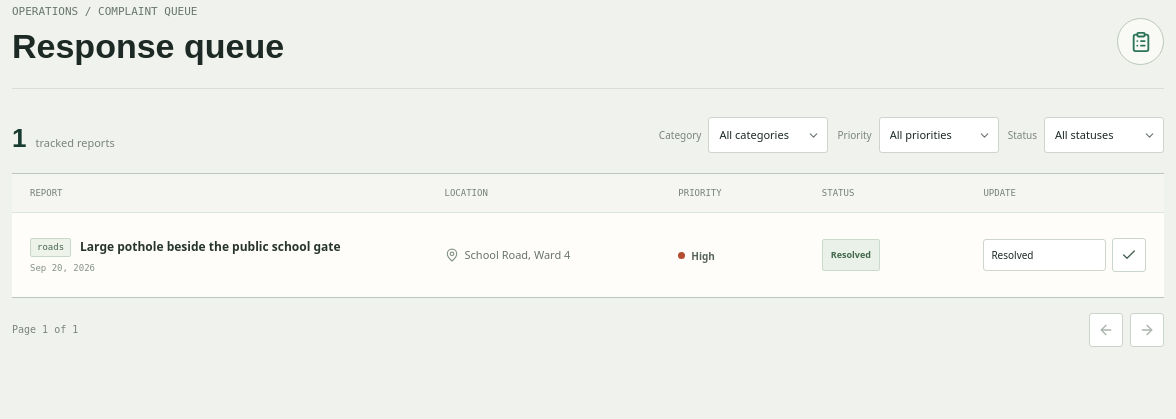
Test: CivicPulse views › renders the backend 409 transition detail verbatim
This screenshot has width=1176, height=419.
Select "open" in the dropdown named "New status for case-001" at (1045, 255), box [983,239,1106,272]
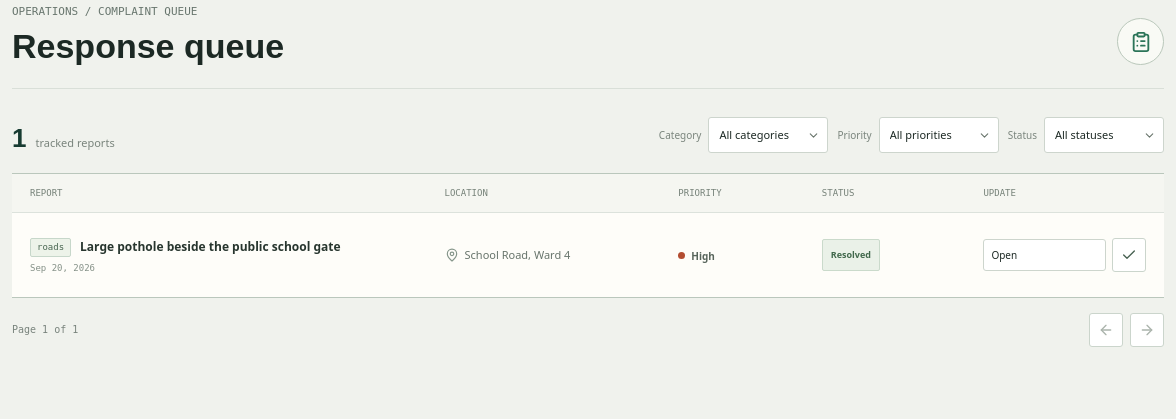
Click the button named "Save status for case-001" at (1129, 255), box [1112,238,1146,272]
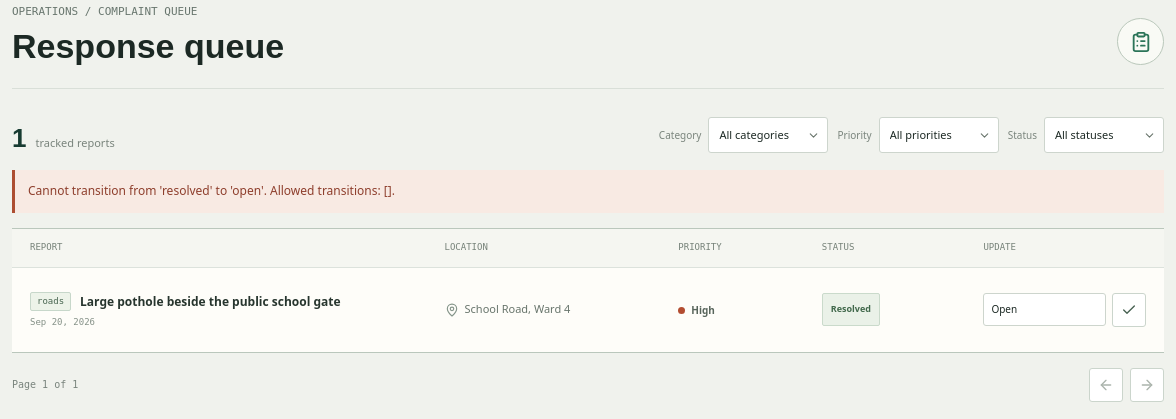
Now the message reads "Cannot transition from 'resolved' to 'open'. Allowed transitions: [].", box [28,182,395,199]
